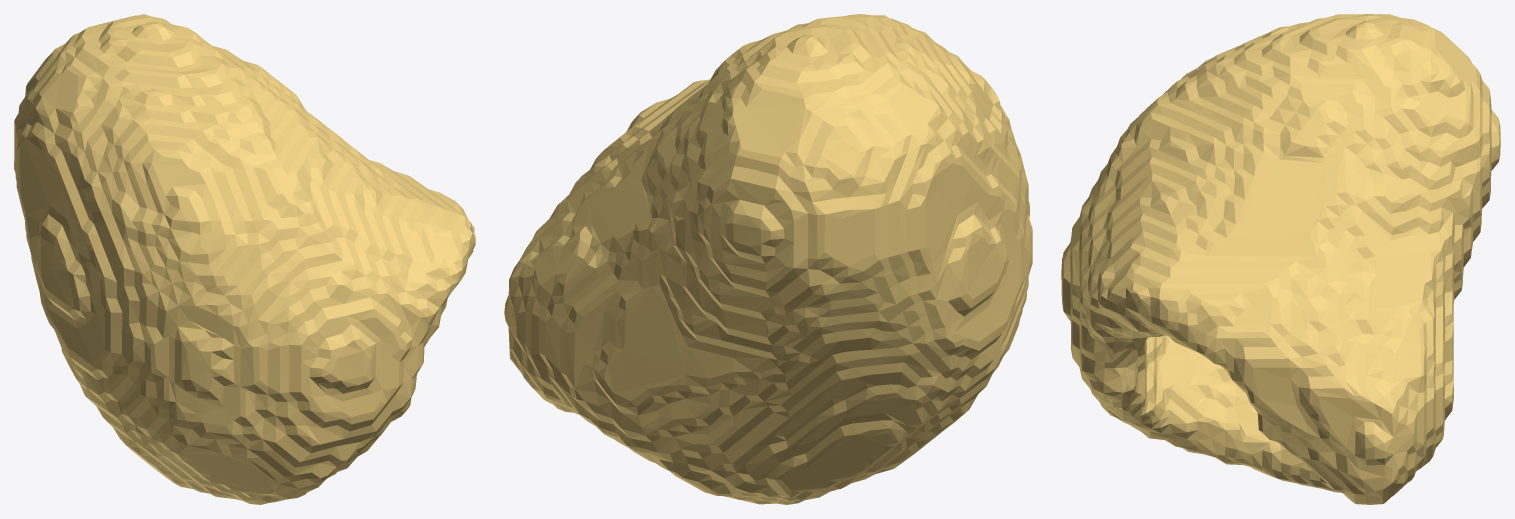
The model's file is prompt.glb.
3 views of the same model, side by side, from view 1: azimuth 30°, elevation 25°; view 2: azimuth 150°, elevation 25°; view 3: azimuth 270°, elevation 25° (orthographic). The views are drawn at different scales.
Visible parts, largest first — view 1: world; view 2: world; view 3: world.
Part boxes in pixels (bbox=[...]): world: bbox=[14, 14, 475, 504]; world: bbox=[504, 14, 1032, 504]; world: bbox=[1061, 14, 1500, 504].
Size of the model in its own units: 0.7536 by 0.8143 by 0.7373.
